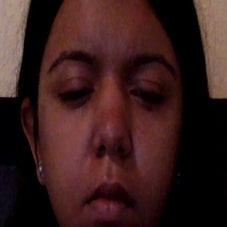drowsy: (43, 42, 179, 227)
